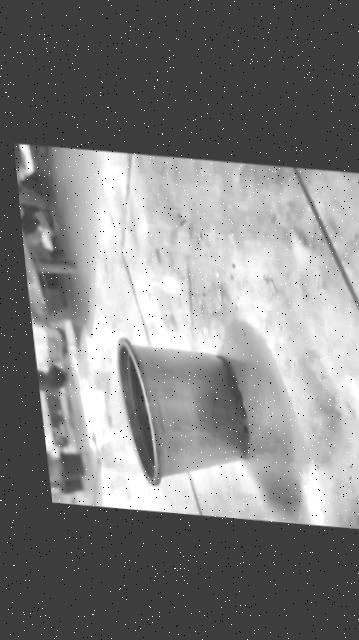pot: (113, 336, 255, 497)
